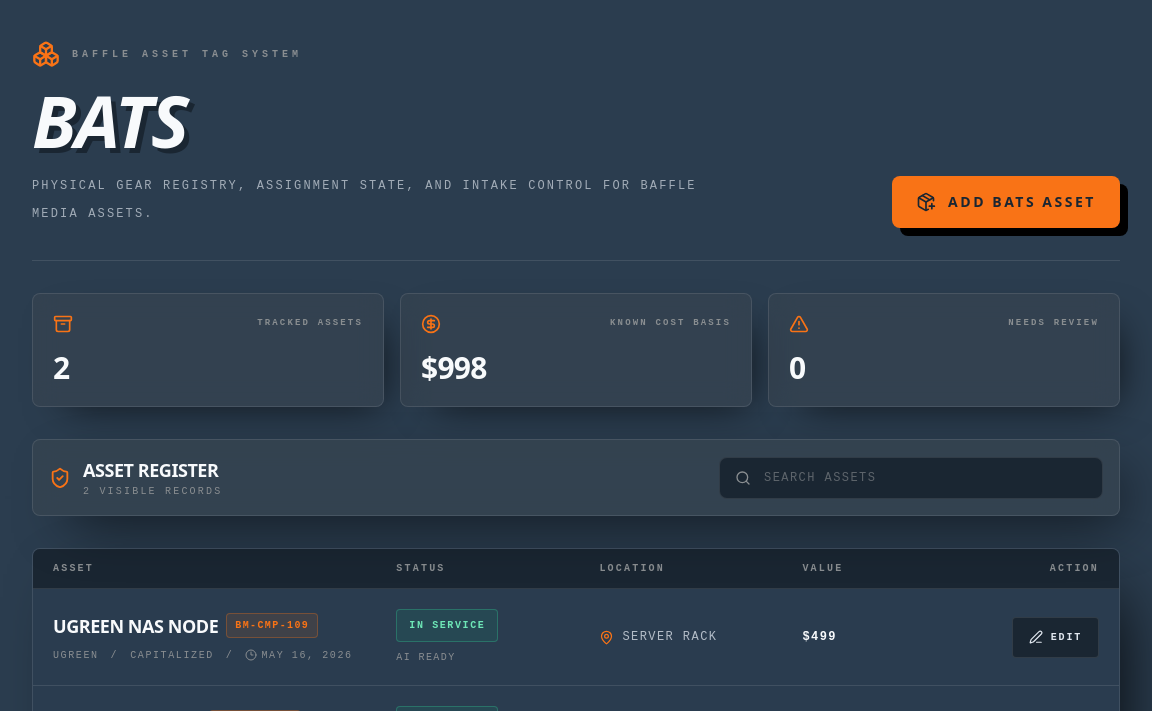
Test: BATS asset overview › filters assets by search text
This screenshot has width=1152, height=711.
Expected: the heading "Ugreen NAS Node" is shown, [53,612,218,640]
Type "lighting" into the field with placeholder "Search assets" at coordinates (911, 478), box [719,456,1103,498]
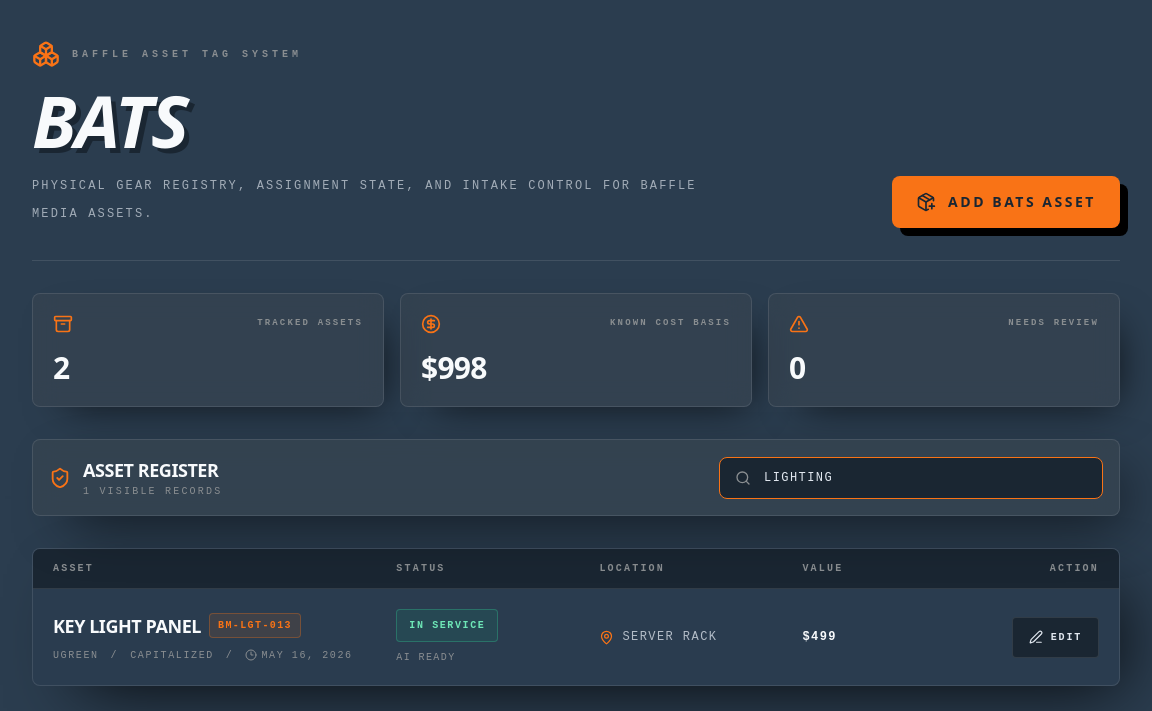
Expected: the heading "Key Light Panel" is shown, [53,612,201,640]
Now the heading "Ugreen NAS Node" is gone
